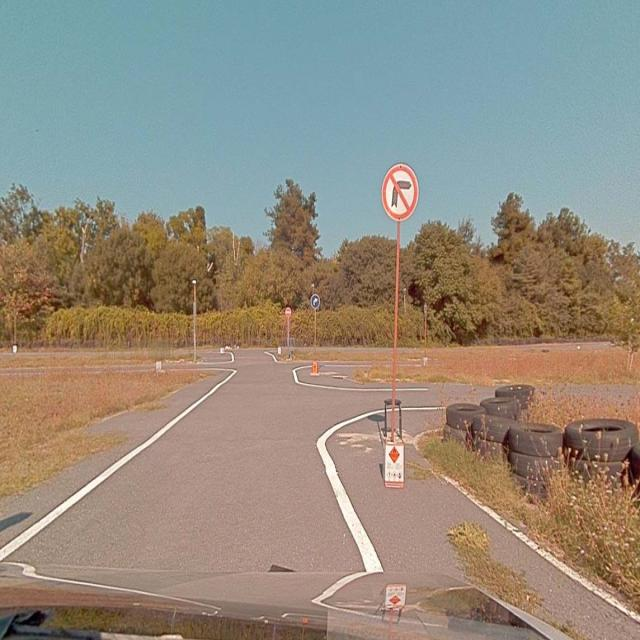girisyok: (285, 307, 290, 316)
sag: (310, 294, 320, 308)
sagadonulmez: (382, 163, 418, 220)
